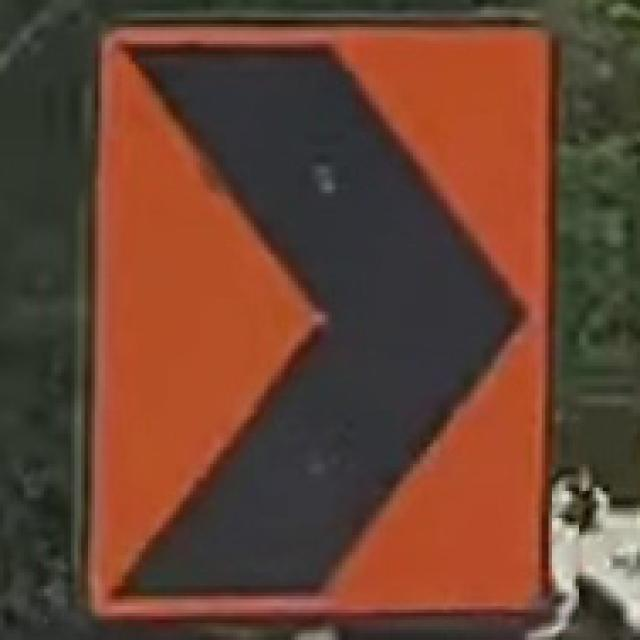curveright_sign: (75, 13, 562, 630)
